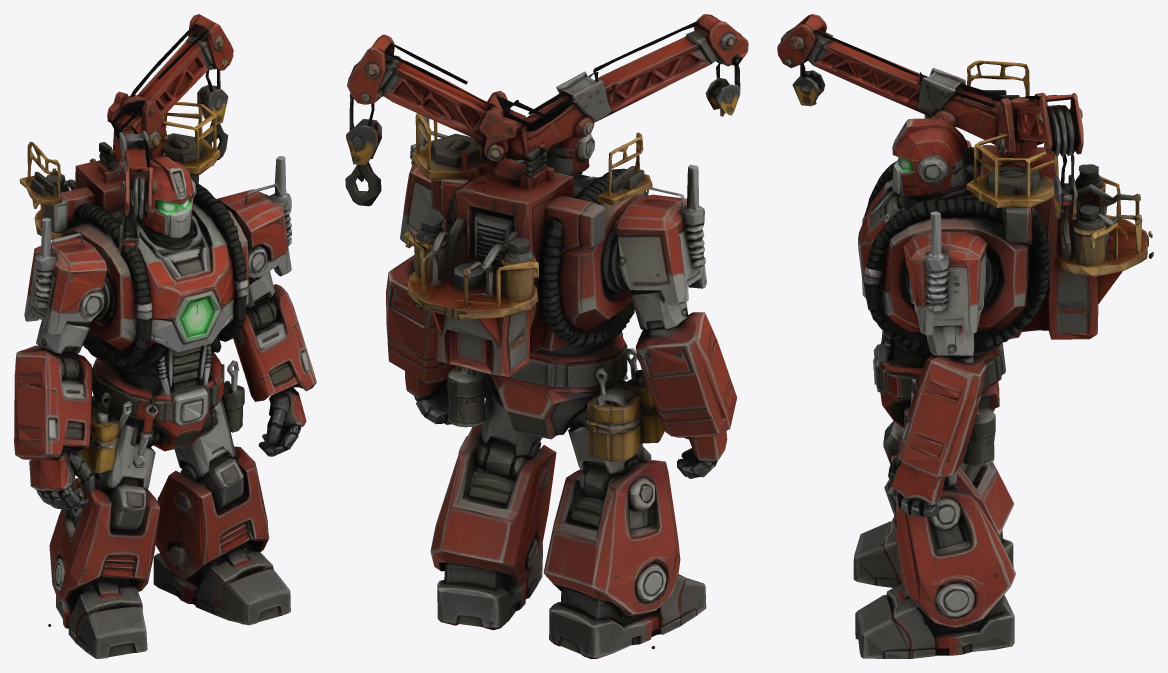
Rendered from river-robot.glb.
The picture shows the model from 3 angles, left to right: view 1: azimuth 30°, elevation 25°; view 2: azimuth 150°, elevation 25°; view 3: azimuth 270°, elevation 25°; orthographic projection. The views are drawn at different scales.
Parts seen in each view (by area): view 1: geometry_0; view 2: geometry_0; view 3: geometry_0.
Boxes of the visible parts, x1,y1,x2,y2 form: geometry_0: (14, 14, 316, 658); geometry_0: (345, 14, 748, 658); geometry_0: (777, 14, 1153, 658).
Bounding box in the file's own units: 0.5941 × 0.9995 × 0.5981.
1 material, 1 textured.
